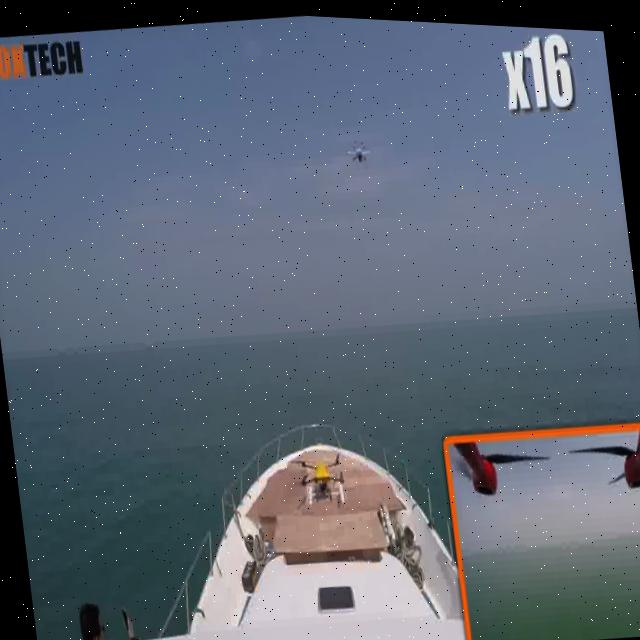drone: (284, 434, 356, 507), (342, 127, 372, 159)
